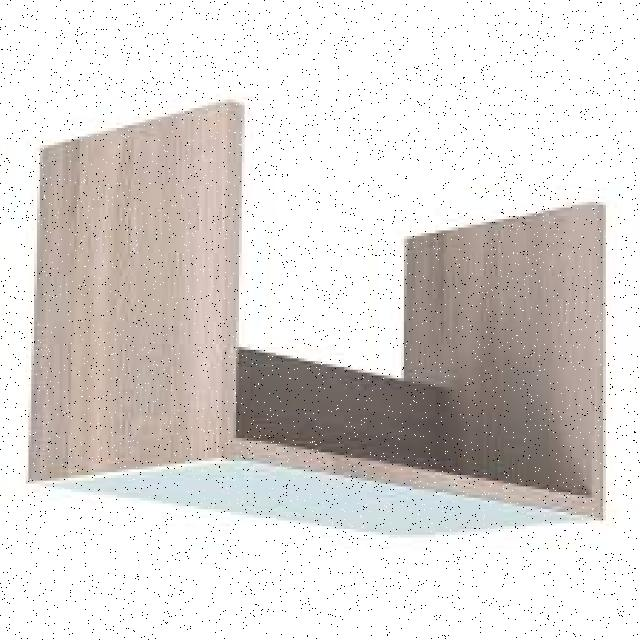Table: (28, 104, 622, 544)
